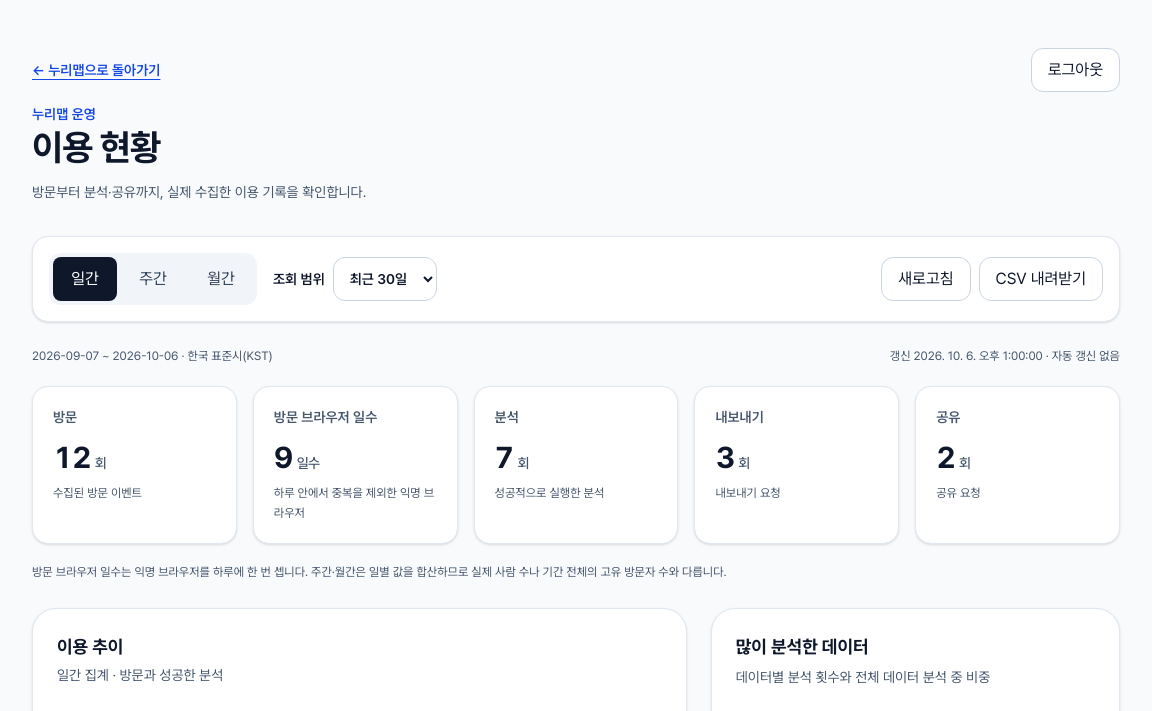
Test: UsageDashboard › clears stale totals after a failed refresh instead of presenting old data as current
Check: the heading "방문 브라우저 일수" is shown, box [274,409,377,425]
Click the button "새로고침".
click(926, 279)  # box [881,257,970,301]
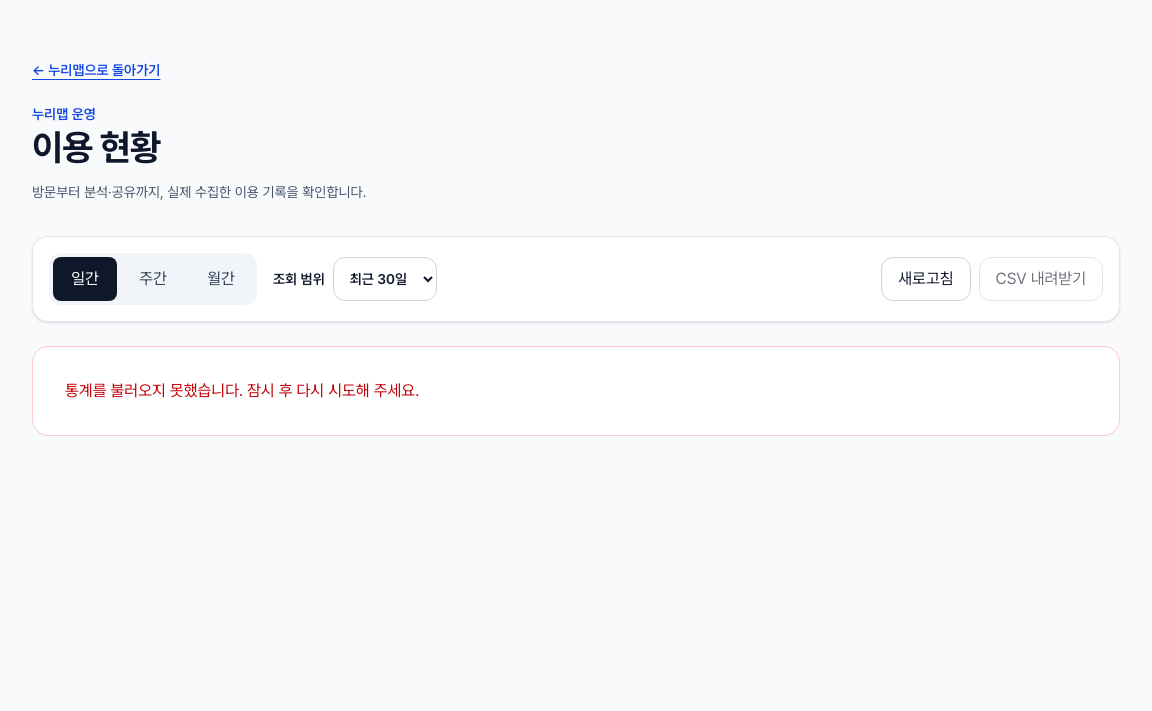
Check: the text "통계를 불러오지 못했습니다. 잠시 후 다시 시도해 주세요." is shown, box [32,346,1120,436]
Check: the heading "방문 브라우저 일수" is gone
